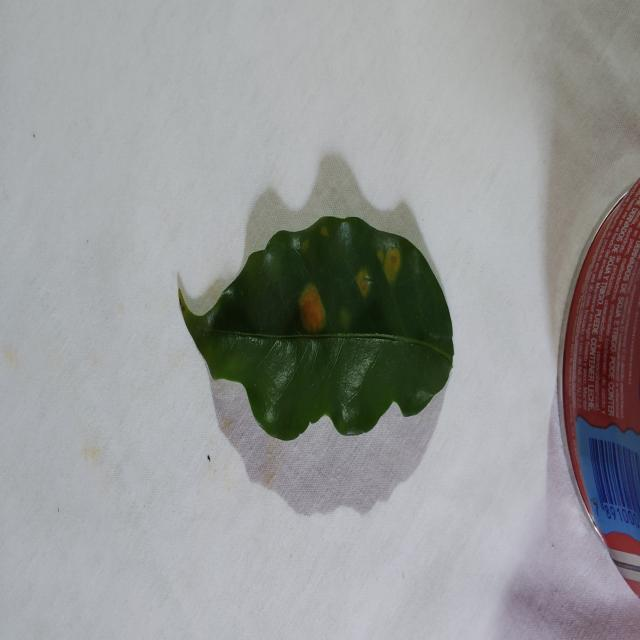Enfermedad-Roya: (176, 216, 455, 444)
